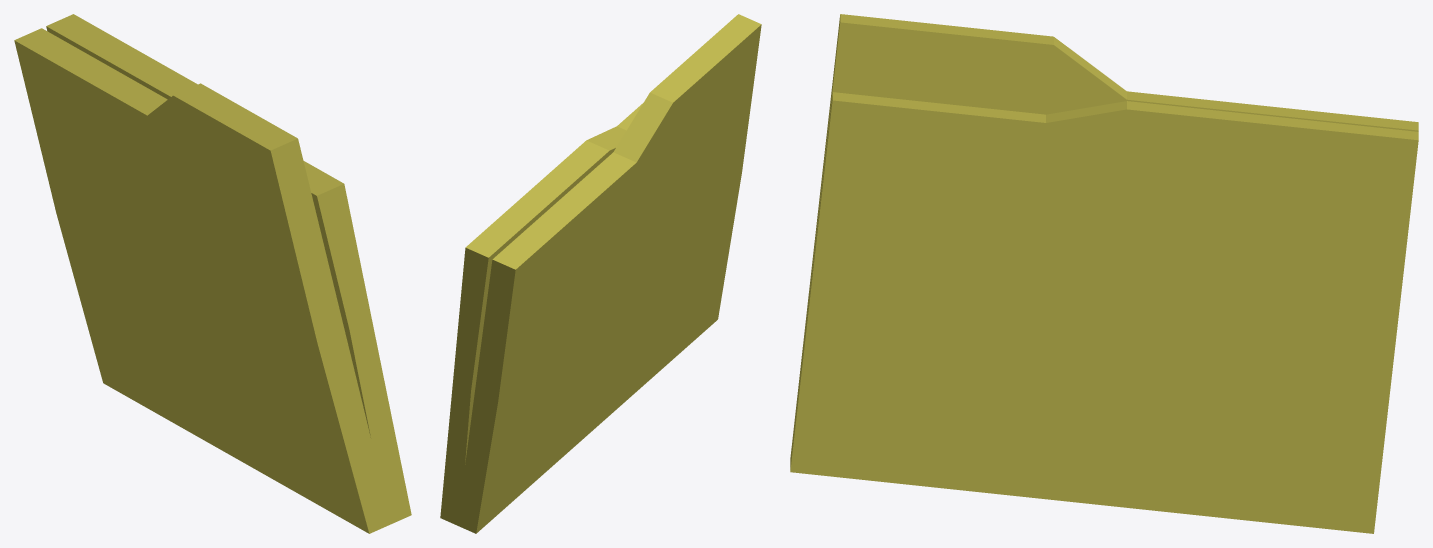
File: files.fbx
3 renders of one model, left to right at view 1: azimuth 30°, elevation 25°; view 2: azimuth 150°, elevation 25°; view 3: azimuth 270°, elevation 25°, orthographic. The views are drawn at different scales.
Visible parts, largest first — view 1: Cube; view 2: Cube; view 3: Cube.
Boxes of the visible parts, <box> form: Cube: <box>14,14,411,533</box>; Cube: <box>440,14,761,533</box>; Cube: <box>790,14,1418,533</box>.
Size of the model in its own units: 15.88 by 52.88 by 64.22.
